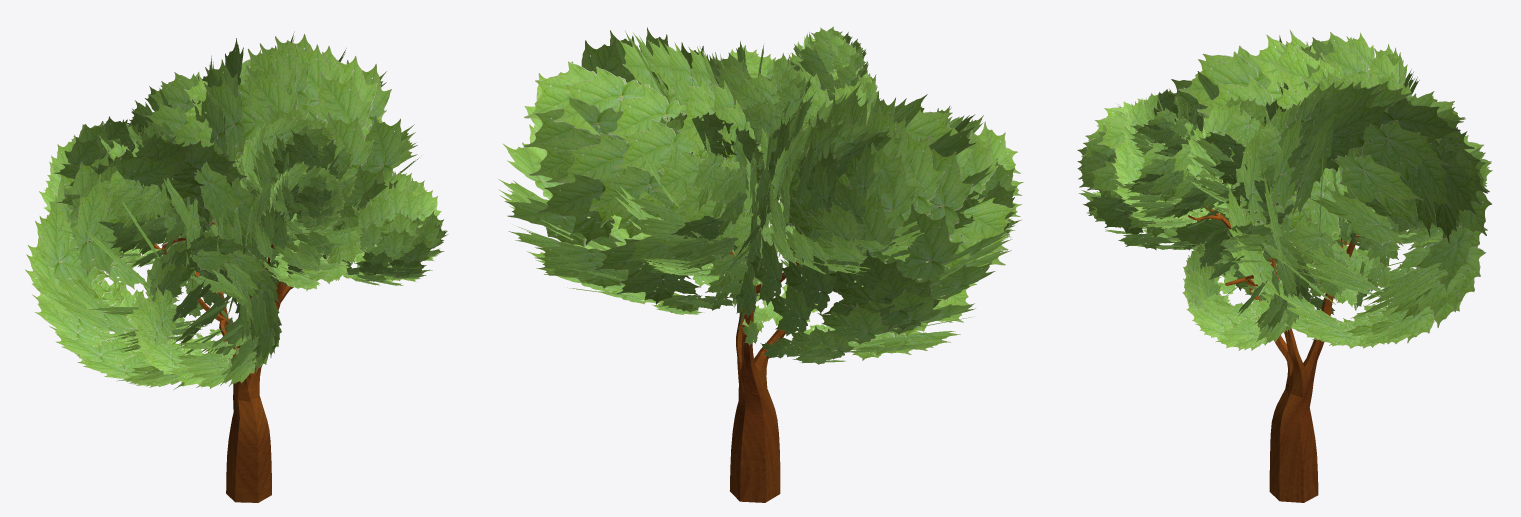
Rendered from Tree.glb.
3 views of the same model, side by side, from view 1: azimuth 30°, elevation 25°; view 2: azimuth 150°, elevation 25°; view 3: azimuth 270°, elevation 25° (orthographic). The views are drawn at different scales.
Parts seen in each view (by area): view 1: Cylinder.908; view 2: Cylinder.908; view 3: Cylinder.908.
Part boxes in pixels (left/top/right/bottom): Cylinder.908: left=25, top=31, right=448, bottom=502; Cylinder.908: left=498, top=26, right=1023, bottom=502; Cylinder.908: left=1077, top=30, right=1492, bottom=502.
Size of what is drawn, in the model's own units: 8.64 by 8.32 by 7.36.
Materials: 2 (2 with a texture image).
